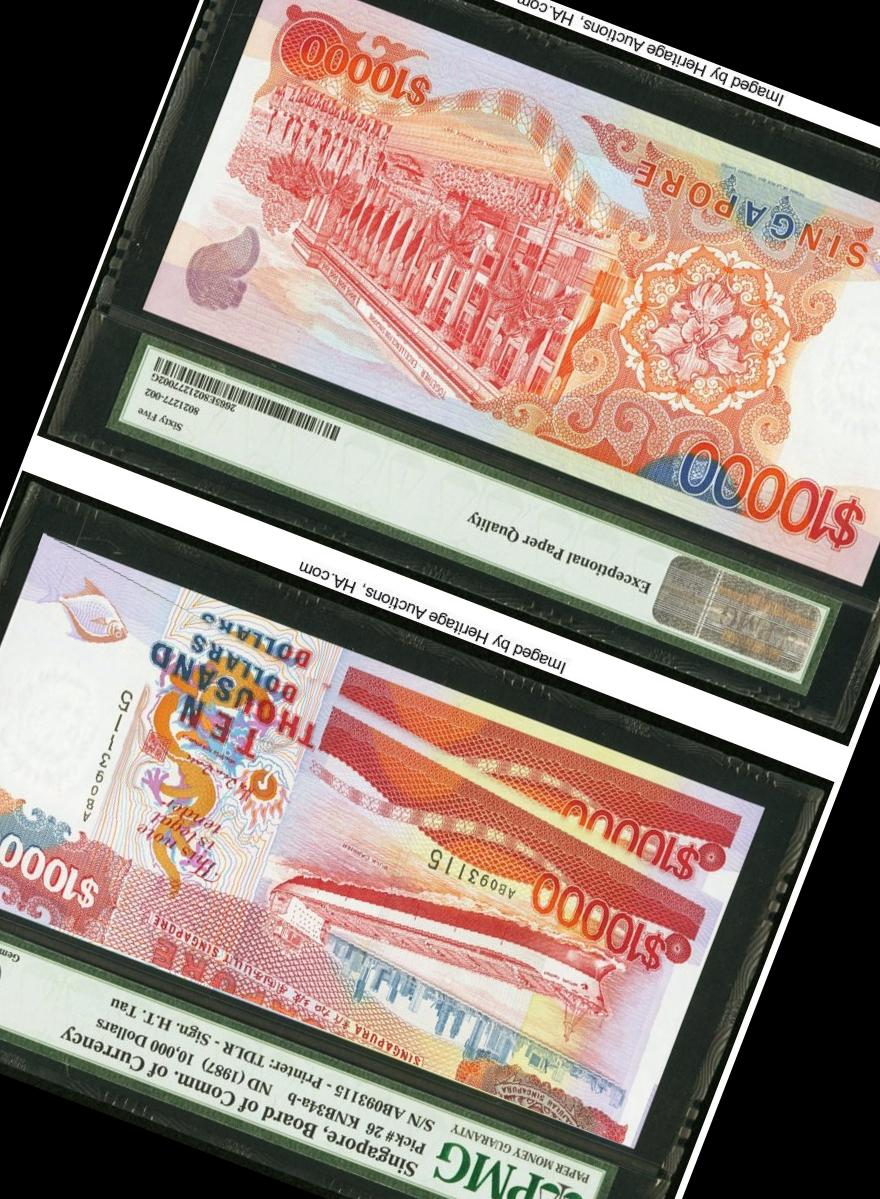10000SingaporeDollar: (0, 532, 761, 1147)
